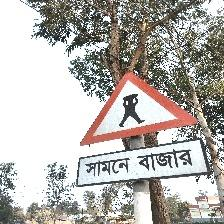Market-in-front: (75, 69, 211, 185)
